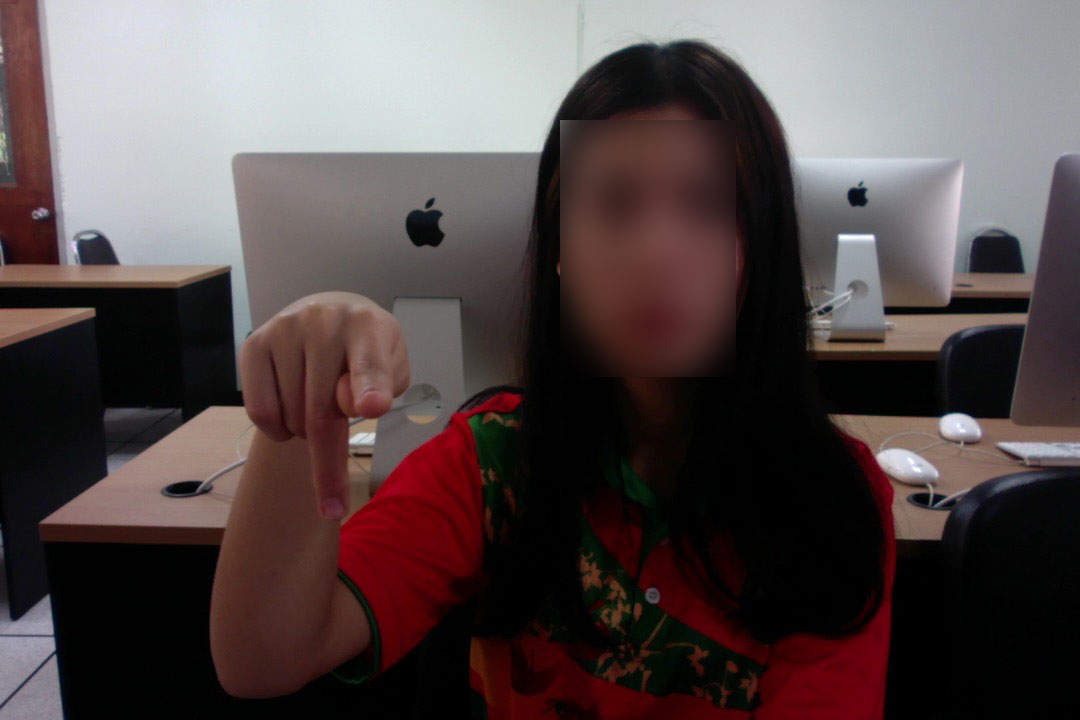por: (235, 281, 420, 527)
